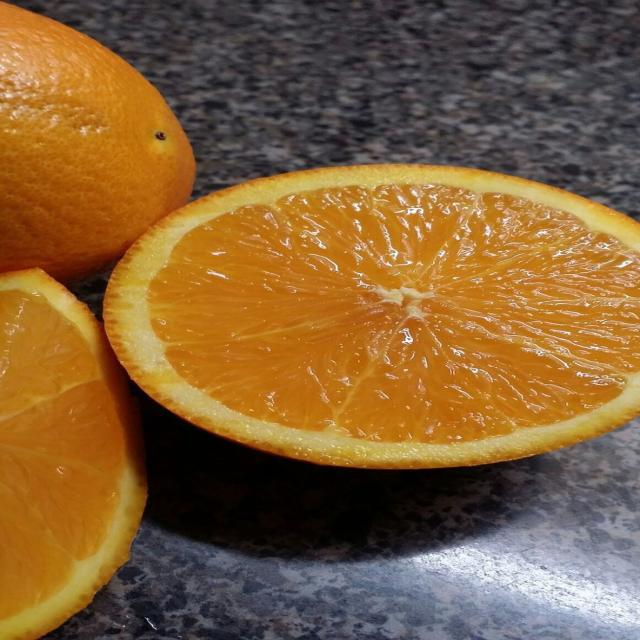orange: (106, 166, 639, 467), (0, 2, 194, 280), (0, 270, 146, 639)
